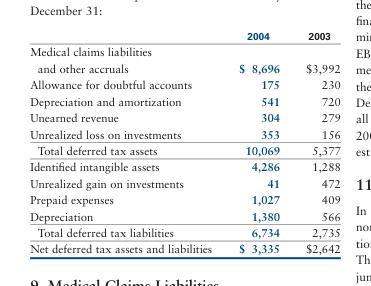table: (29, 29, 339, 255)
table column: (29, 29, 224, 255), (224, 29, 292, 255), (292, 29, 339, 255)
table column header: (29, 29, 339, 43)
table row: (29, 43, 339, 75), (29, 75, 339, 92), (29, 108, 339, 125), (29, 157, 339, 174), (29, 190, 339, 207), (29, 223, 339, 240), (29, 92, 339, 108), (29, 125, 339, 141), (29, 141, 339, 157), (29, 174, 339, 190), (29, 207, 339, 223), (29, 240, 339, 255), (29, 29, 339, 43)
